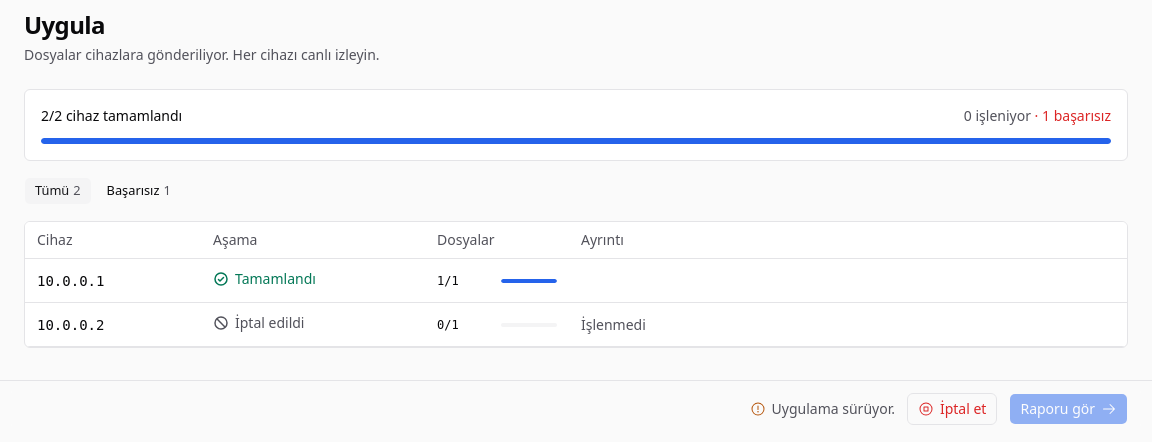
Test: ApplyStep › shows cancelled devices as cancelled and filters failed rows
The image size is (1152, 442).
Expected: the text "İptal edildi" is shown, [213,313,304,333]
Expected: the text "İşlenmedi" is shown, [569,303,1127,347]
Click the button "Başarısız 1" at (139, 191), box [96,177,182,205]
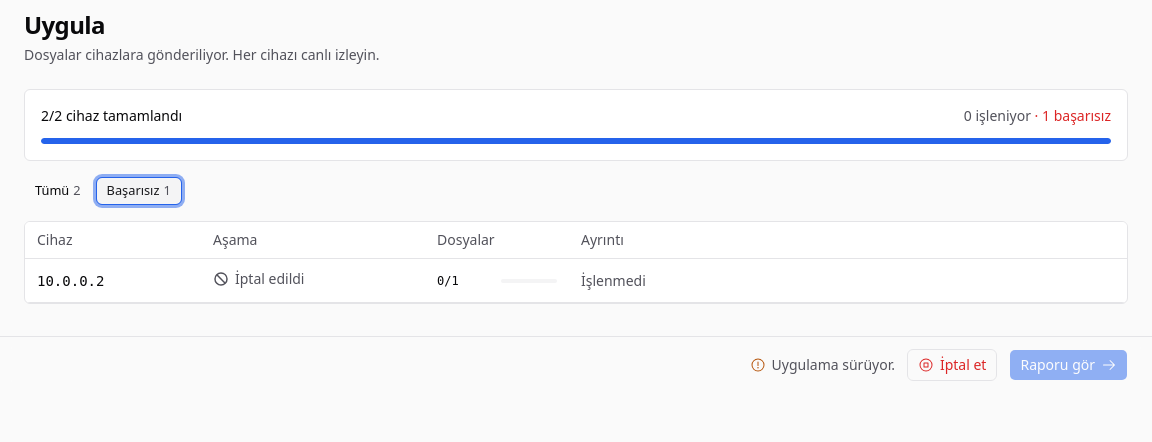
Expected: the row "10.0.0.2 İptal edildi 0/1 İşlenmedi" is shown, [25,259,1127,303]
Result: the column heading "10.0.0.1" is gone
